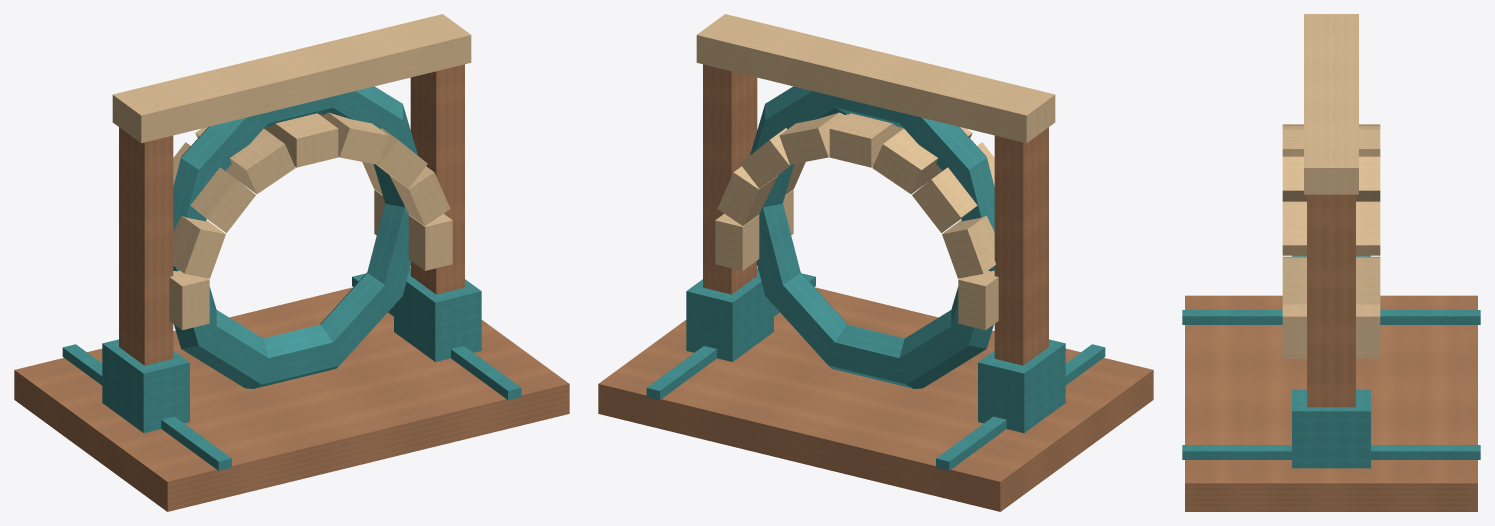
File: atlas100-s097-a01.lod1.glb
The picture shows the model from 3 angles, left to right: view 1: azimuth 30°, elevation 25°; view 2: azimuth 150°, elevation 25°; view 3: azimuth 270°, elevation 25°; orthographic projection. The views are drawn at different scales.
Visible parts, largest first — view 1: atlas100-s097-a01:part-000, atlas100-s097-a01:part-008, atlas100-s097-a01:part-007, atlas100-s097-a01:part-003, atlas100-s097-a01:part-005, atlas100-s097-a01:part-004, atlas100-s097-a01:part-006, atlas100-s097-a01:part-014, atlas100-s097-a01:part-013, atlas100-s097-a01:part-015, atlas100-s097-a01:part-016, atlas100-s097-a01:part-009 (+6 smaller); view 2: atlas100-s097-a01:part-000, atlas100-s097-a01:part-008, atlas100-s097-a01:part-007, atlas100-s097-a01:part-003, atlas100-s097-a01:part-005, atlas100-s097-a01:part-004, atlas100-s097-a01:part-006, atlas100-s097-a01:part-014, atlas100-s097-a01:part-013, atlas100-s097-a01:part-015, atlas100-s097-a01:part-016, atlas100-s097-a01:part-009 (+6 smaller); view 3: atlas100-s097-a01:part-000, atlas100-s097-a01:part-005, atlas100-s097-a01:part-007, atlas100-s097-a01:part-006, atlas100-s097-a01:part-002, atlas100-s097-a01:part-001, atlas100-s097-a01:part-009, atlas100-s097-a01:part-011, atlas100-s097-a01:part-010, atlas100-s097-a01:part-012, atlas100-s097-a01:part-013.
Boxes of the visible parts, box(x1,y1,x2,y2) form: atlas100-s097-a01:part-000: box(14, 287, 569, 511); atlas100-s097-a01:part-008: box(173, 86, 417, 388); atlas100-s097-a01:part-007: box(112, 14, 471, 143); atlas100-s097-a01:part-003: box(119, 127, 173, 365); atlas100-s097-a01:part-005: box(410, 64, 464, 294); atlas100-s097-a01:part-004: box(102, 339, 189, 432); atlas100-s097-a01:part-006: box(394, 268, 481, 361); atlas100-s097-a01:part-014: box(195, 127, 295, 193); atlas100-s097-a01:part-013: box(264, 113, 338, 167); atlas100-s097-a01:part-015: box(173, 142, 255, 232); atlas100-s097-a01:part-016: box(172, 215, 225, 278); atlas100-s097-a01:part-009: box(374, 189, 452, 270); atlas100-s097-a01:part-000: box(598, 287, 1153, 511); atlas100-s097-a01:part-008: box(750, 86, 994, 388); atlas100-s097-a01:part-007: box(696, 14, 1055, 143); atlas100-s097-a01:part-003: box(994, 127, 1048, 365); atlas100-s097-a01:part-005: box(703, 64, 757, 294); atlas100-s097-a01:part-004: box(978, 339, 1065, 432); atlas100-s097-a01:part-006: box(686, 268, 773, 361); atlas100-s097-a01:part-014: box(872, 127, 972, 193); atlas100-s097-a01:part-013: box(829, 113, 903, 167); atlas100-s097-a01:part-015: box(912, 142, 994, 232); atlas100-s097-a01:part-016: box(942, 215, 995, 278); atlas100-s097-a01:part-009: box(715, 189, 793, 270); atlas100-s097-a01:part-000: box(1185, 295, 1477, 511); atlas100-s097-a01:part-005: box(1307, 194, 1355, 407); atlas100-s097-a01:part-007: box(1304, 14, 1358, 194); atlas100-s097-a01:part-006: box(1292, 389, 1370, 468); atlas100-s097-a01:part-002: box(1182, 445, 1480, 459); atlas100-s097-a01:part-001: box(1182, 310, 1480, 324); atlas100-s097-a01:part-009: box(1282, 304, 1380, 358); atlas100-s097-a01:part-011: box(1282, 201, 1380, 255); atlas100-s097-a01:part-010: box(1282, 256, 1380, 304); atlas100-s097-a01:part-012: box(1282, 156, 1380, 201); atlas100-s097-a01:part-013: box(1282, 129, 1380, 156).
Size of the model in its own units: 3.64 by 2.96 by 2.45.
3 materials, 3 textured.
